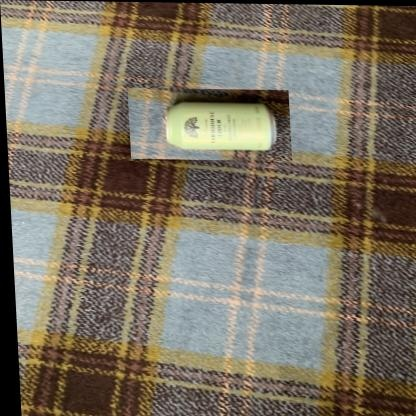trash: (166, 102, 275, 150)
